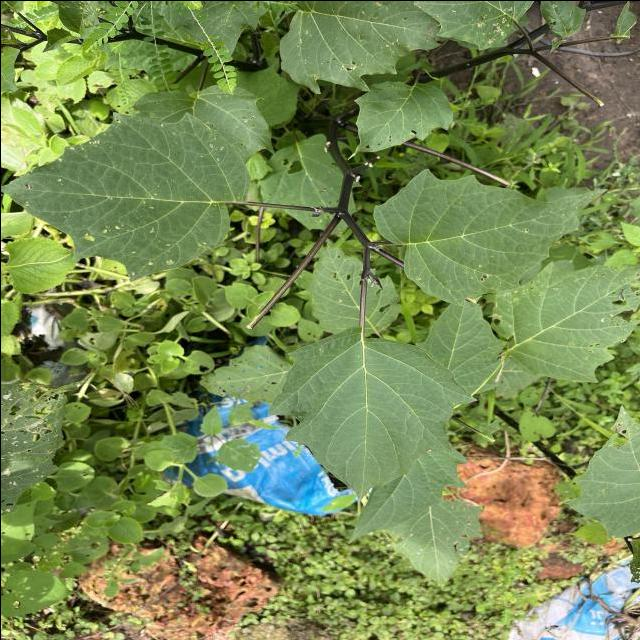Datura metal linn: (0, 110, 252, 284), (264, 323, 480, 507), (370, 165, 612, 307), (345, 77, 455, 164)
